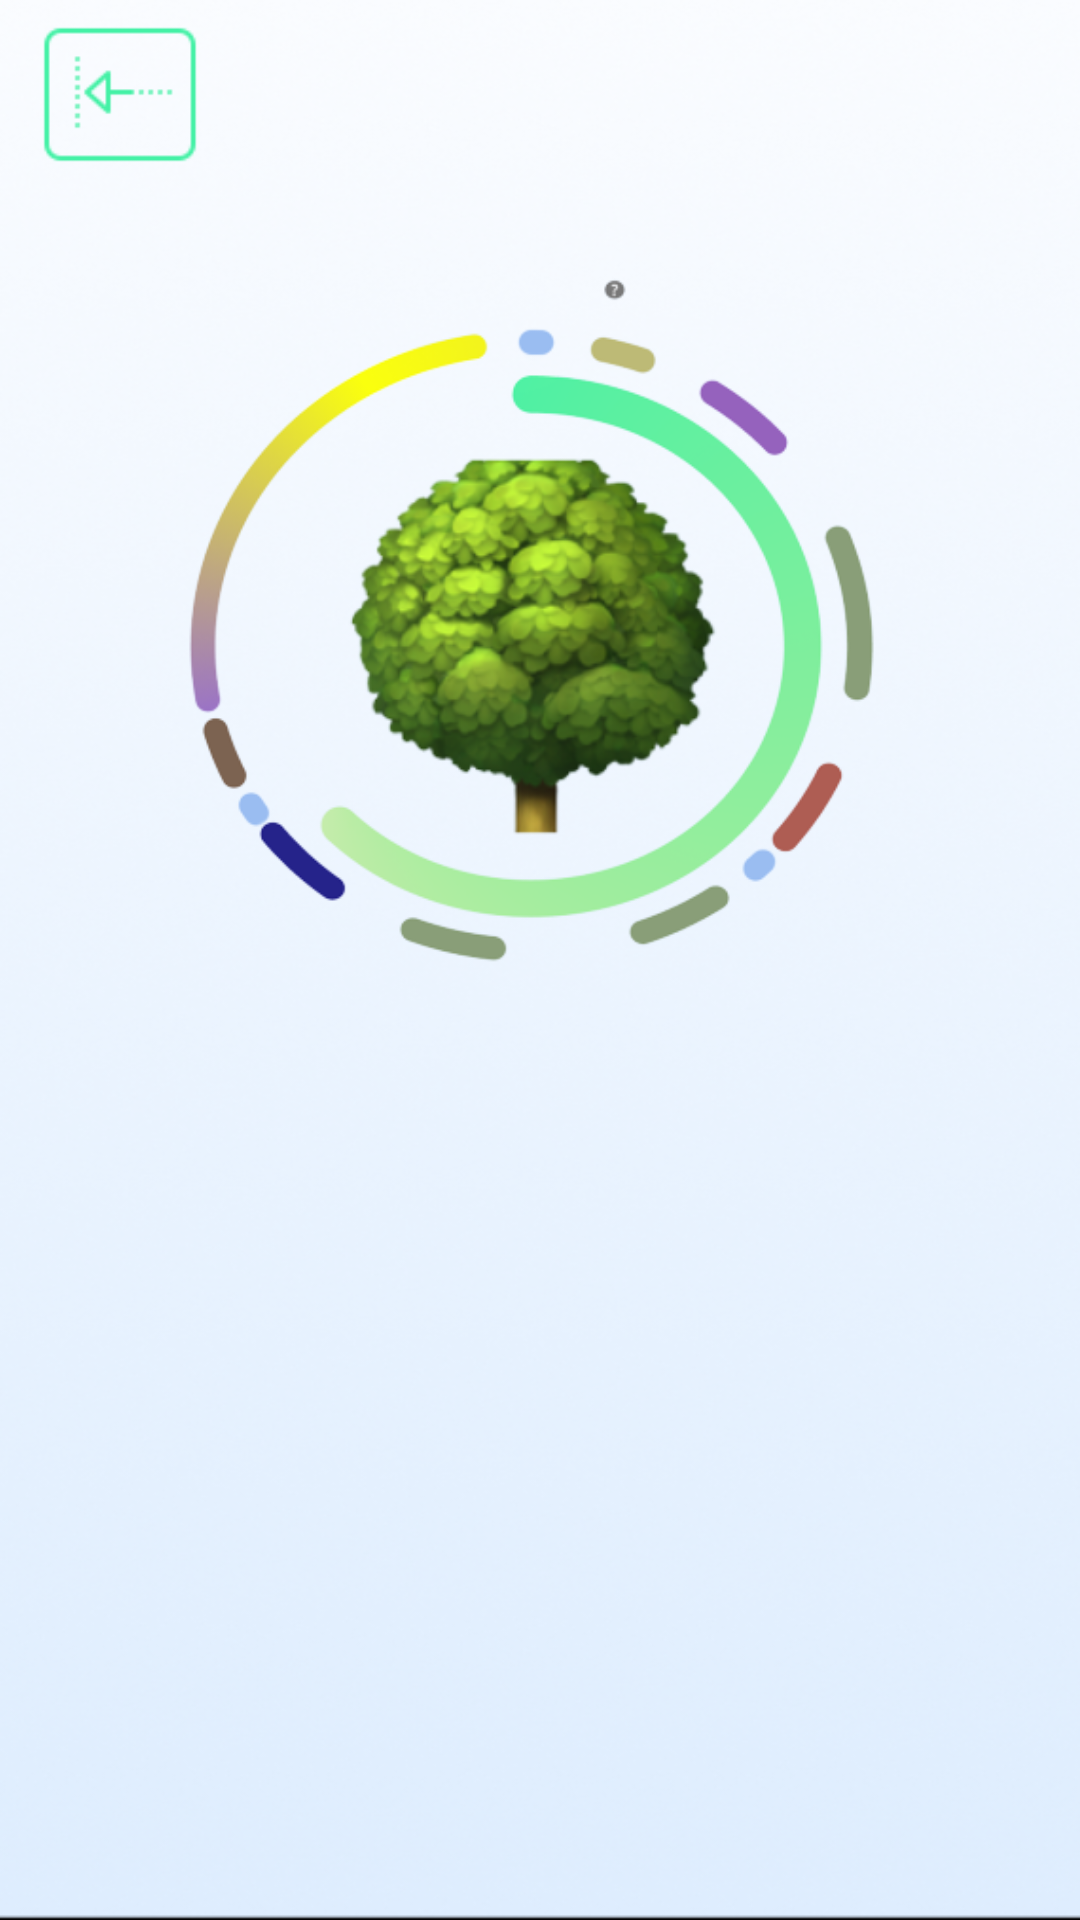

Named icons in this screenshot (1080x1920) and their centers, [x,y]:
backhome: [120,94]
